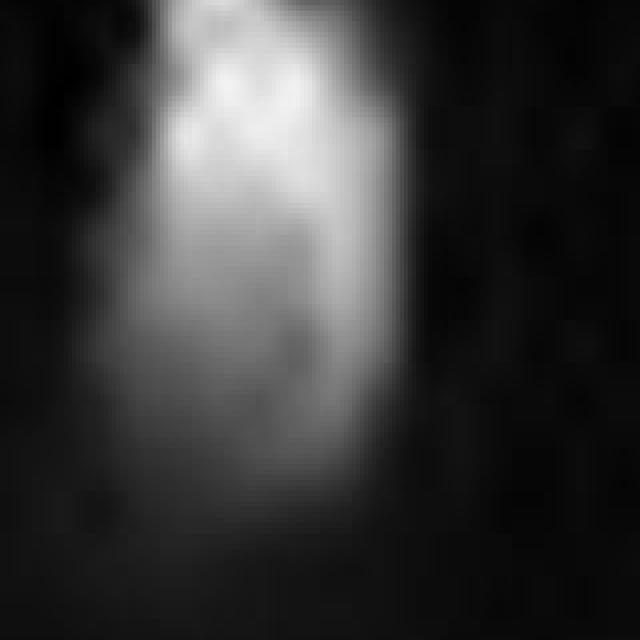person: (117, 1, 397, 534)
